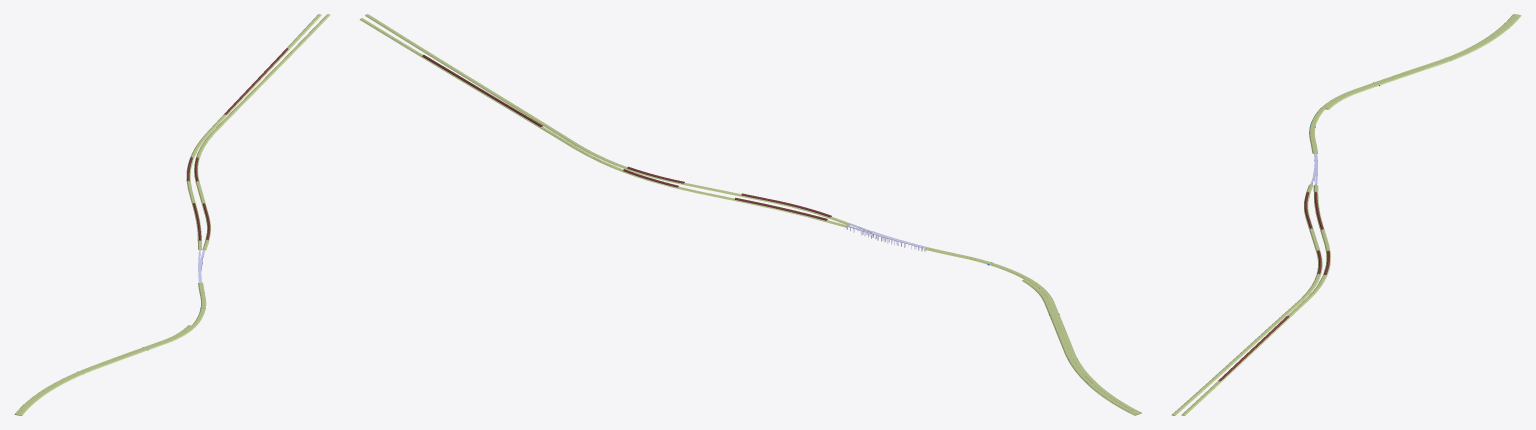
The model's file is newdae.DAE.
3 views of the same model, side by side, from view 1: azimuth 90°, elevation 25°; view 2: azimuth 150°, elevation 25°; view 3: azimuth 270°, elevation 25° (orthographic). The views are drawn at different scales.
Visible parts, largest first — view 1: ZDGL_LJ_YX_1, ZDGL_LJ_YX_YXYF, ZDGL_LJ_YX_3; view 2: ZDGL_LJ_YX_YXYF, ZDGL_LJ_YX_1, ZDGL_LJ_YX_3; view 3: ZDGL_LJ_YX_1, ZDGL_LJ_YX_YXYF, ZDGL_LJ_YX_3.
Part boxes in pixels (x1=…): ZDGL_LJ_YX_1: x1=14, y1=325, x2=195, y2=415; ZDGL_LJ_YX_YXYF: x1=194, y1=14, x2=330, y2=293; ZDGL_LJ_YX_3: x1=186, y1=14, x2=321, y2=293; ZDGL_LJ_YX_YXYF: x1=365, y1=14, x2=952, y2=253; ZDGL_LJ_YX_1: x1=1022, y1=278, x2=1141, y2=415; ZDGL_LJ_YX_3: x1=359, y1=18, x2=951, y2=255; ZDGL_LJ_YX_1: x1=1321, y1=14, x2=1521, y2=109; ZDGL_LJ_YX_YXYF: x1=1171, y1=142, x2=1322, y2=415; ZDGL_LJ_YX_3: x1=1181, y1=142, x2=1330, y2=415.
Bounding box in the file's own units: 228388 × 79955 × 5623.
